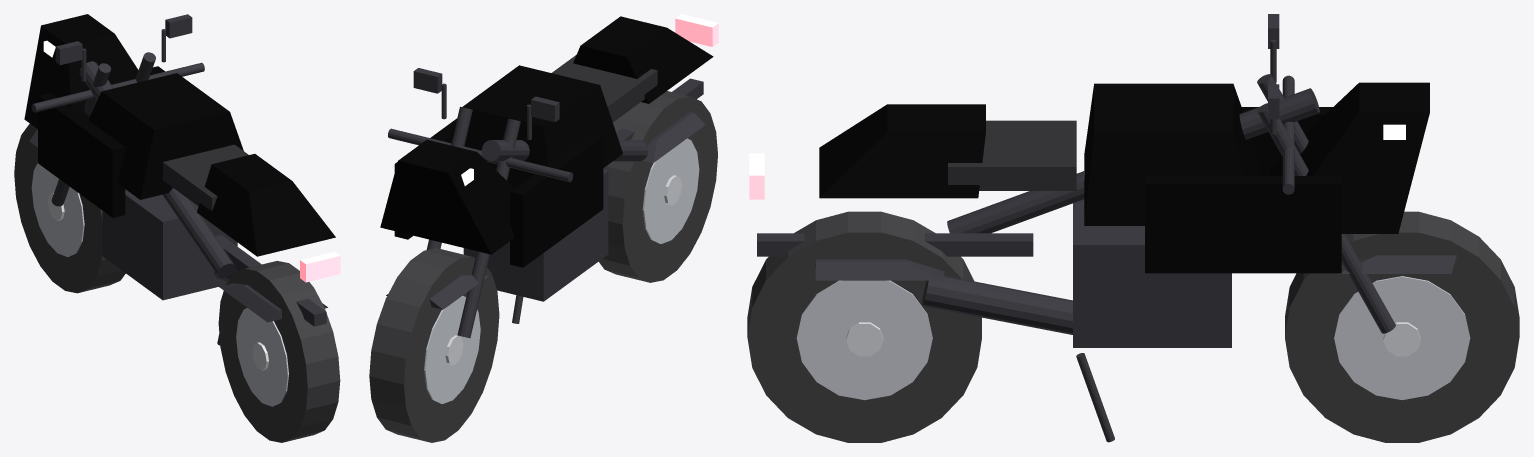
The model's file is velara-bike.glb.
3 views of the same model, side by side, from view 1: azimuth 30°, elevation 25°; view 2: azimuth 150°, elevation 25°; view 3: azimuth 270°, elevation 25° (orthographic). The views are drawn at different scales.
Parts seen in each view (by area): view 1: Body, Trim, WheelR, WheelF, Seat, LightRear; view 2: Body, WheelF, Trim, WheelR, Seat, LightRear; view 3: Body, Trim, WheelR, WheelF, Seat, LightRear.
Boxes of the visible parts, x1=… form: Body: x1=24, y1=14, x2=335, y2=256; Trim: x1=29, y1=14, x2=327, y2=345; WheelR: x1=218, y1=261, x2=340, y2=442; WheelF: x1=14, y1=124, x2=125, y2=293; Seat: x1=163, y1=144, x2=248, y2=211; LightRear: x1=300, y1=251, x2=340, y2=282; Body: x1=380, y1=16, x2=713, y2=267; WheelF: x1=369, y1=248, x2=499, y2=442; Trim: x1=386, y1=68, x2=705, y2=338; WheelR: x1=598, y1=91, x2=717, y2=282; Seat: x1=551, y1=55, x2=657, y2=122; LightRear: x1=675, y1=14, x2=718, y2=46; Body: x1=819, y1=82, x2=1429, y2=273; Trim: x1=757, y1=14, x2=1456, y2=442; WheelR: x1=747, y1=211, x2=981, y2=442; WheelF: x1=1285, y1=211, x2=1519, y2=442; Seat: x1=948, y1=120, x2=1076, y2=190; LightRear: x1=749, y1=153, x2=764, y2=199.
Bounding box in the file's own units: 0.6769 × 1.1 × 2.04.
Materials: 6 (1 with a texture image).
